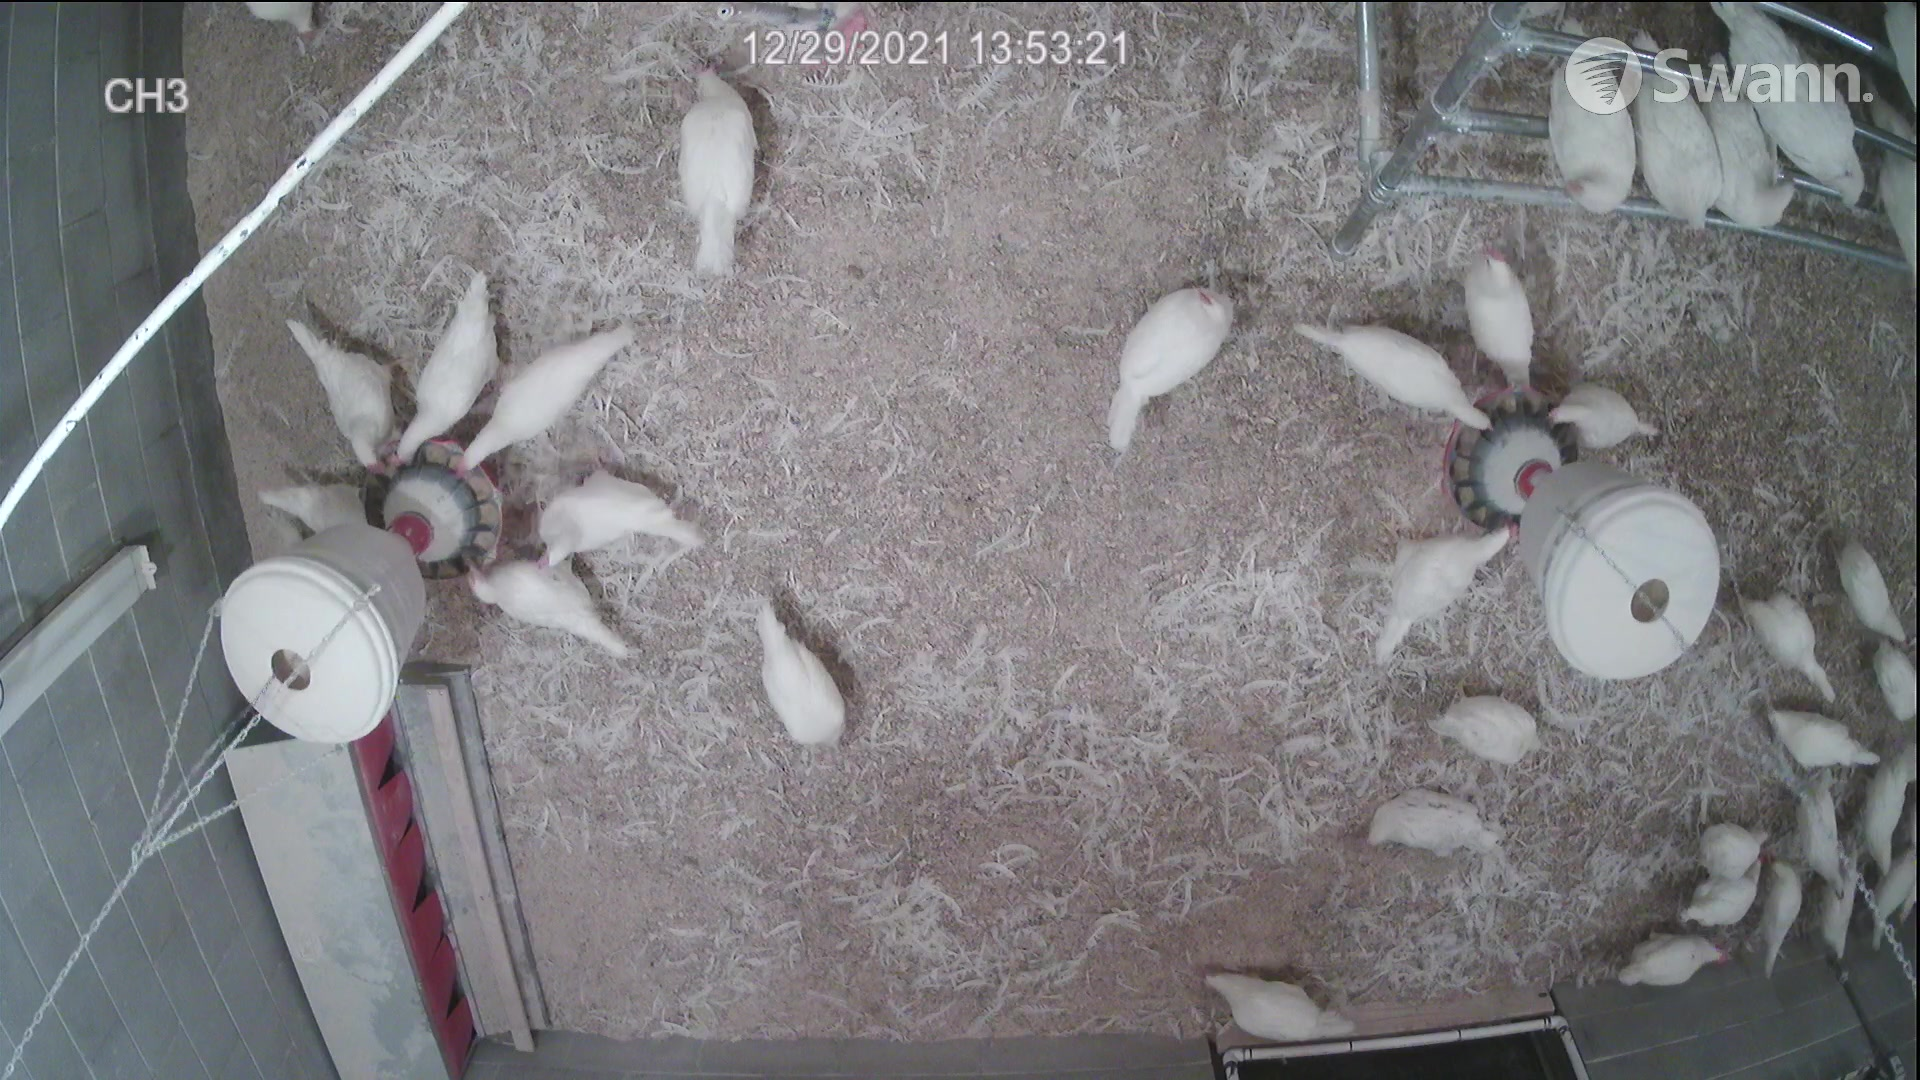Feeding: (443, 314, 632, 487), (1291, 301, 1495, 439), (372, 272, 505, 476), (435, 549, 640, 665), (1375, 512, 1514, 655), (286, 314, 401, 465), (1534, 375, 1643, 454)
Foraging: (676, 62, 764, 281), (1204, 953, 1400, 1047), (753, 596, 852, 756), (1429, 683, 1552, 766), (1750, 583, 1837, 694)
Perching: (1725, 12, 1866, 199), (1519, 11, 1633, 222), (1622, 37, 1716, 229), (1680, 76, 1796, 211)
